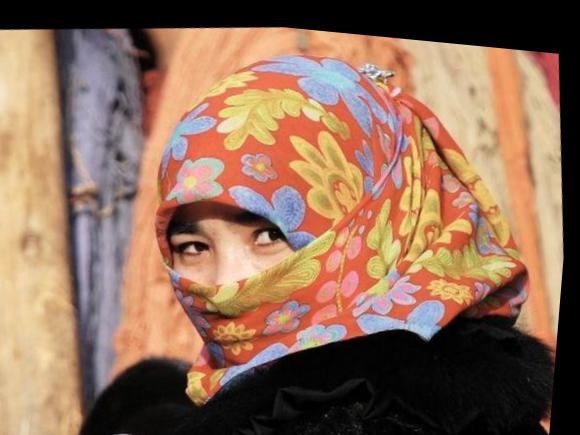WRONG: (160, 169, 367, 379)
